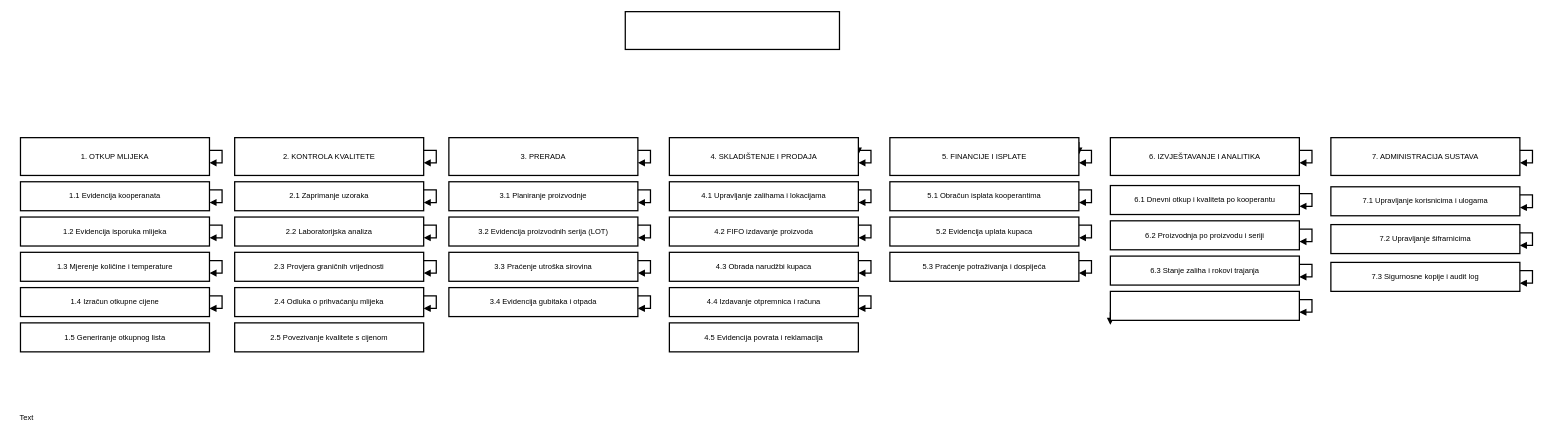
The diagram is 1549 pixels wide and 438 high, and some of its shapes have lost their labels. Here are the shapes that lost their labels. From the top down, the centre of each, then its label:
point 732,30: 0. INFORMACIJSKI SUSTAV MLJEKARE
point 1204,305: 6.4 Prodaja po kupcu i periodu
